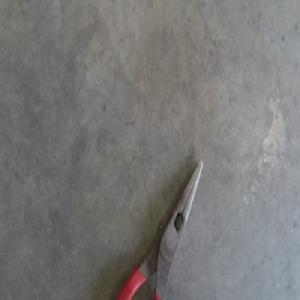Pliers: (119, 155, 203, 299)
